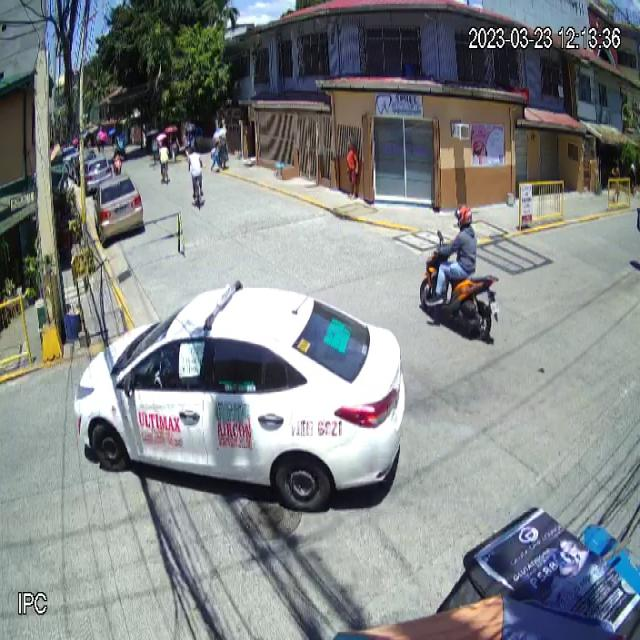Car: (74, 280, 406, 514)
Motorcycle: (417, 228, 501, 346)
